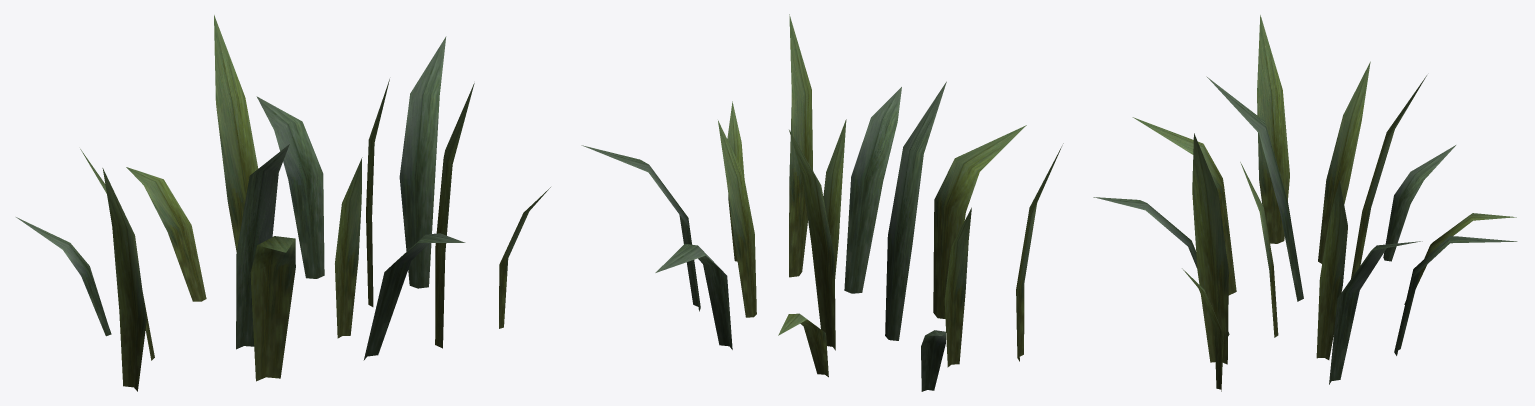
The model's file is SC_yonghengsenlin_39.FBX.
3 views of the same model, side by side, from view 1: azimuth 30°, elevation 25°; view 2: azimuth 150°, elevation 25°; view 3: azimuth 270°, elevation 25° (orthographic). The views are drawn at different scales.
Visible parts, largest first — view 1: Model; view 2: Model; view 3: Model.
Part boxes in pixels (box(x1,y1,x2,y2)): Model: box(16, 15, 550, 391); Model: box(581, 14, 1063, 391); Model: box(1093, 15, 1517, 391).
Size of the model in its own units: 146 by 87.12 by 139.
